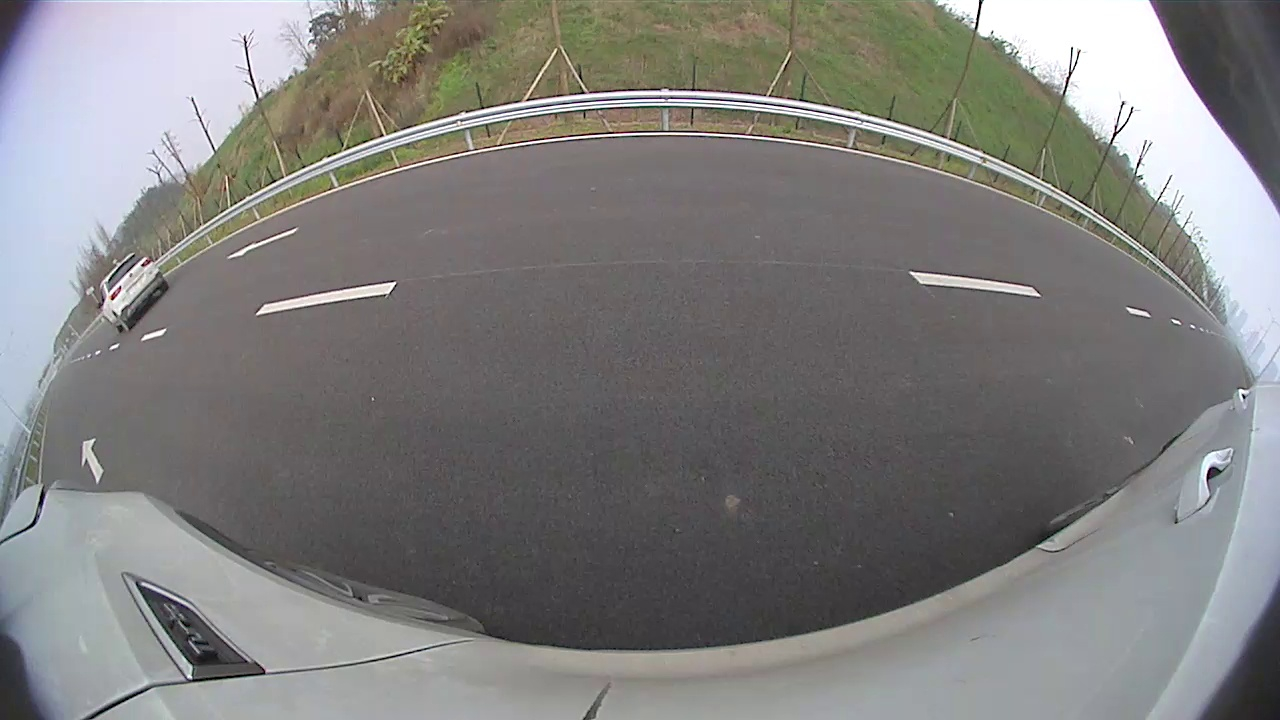car: (98, 252, 170, 333)
rear: (113, 312, 130, 332)
